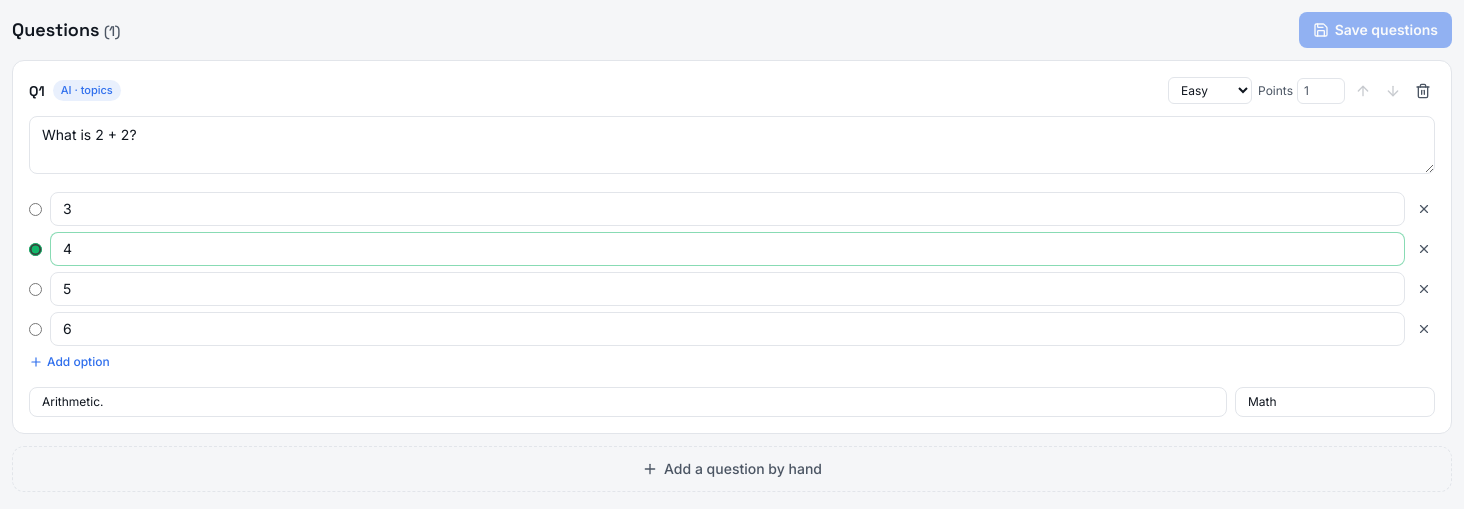
QuestionListEditor › flags two identical options
The width and height of the screenshot is (1464, 509).
Replace the text in the 4th field showing "6" with "4": coordinates (728, 329) top-left (50, 312), bottom-right (1405, 346)
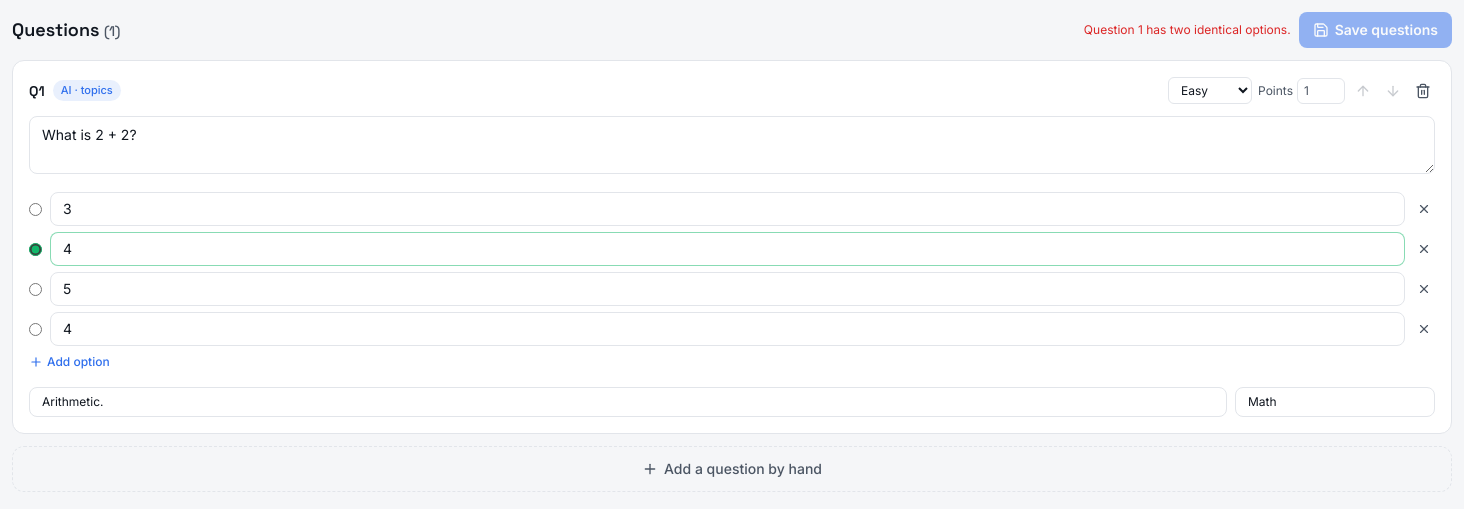
expect the text "Question 1 has two identical options." is shown: met, box top-left (1084, 22), bottom-right (1291, 38)
